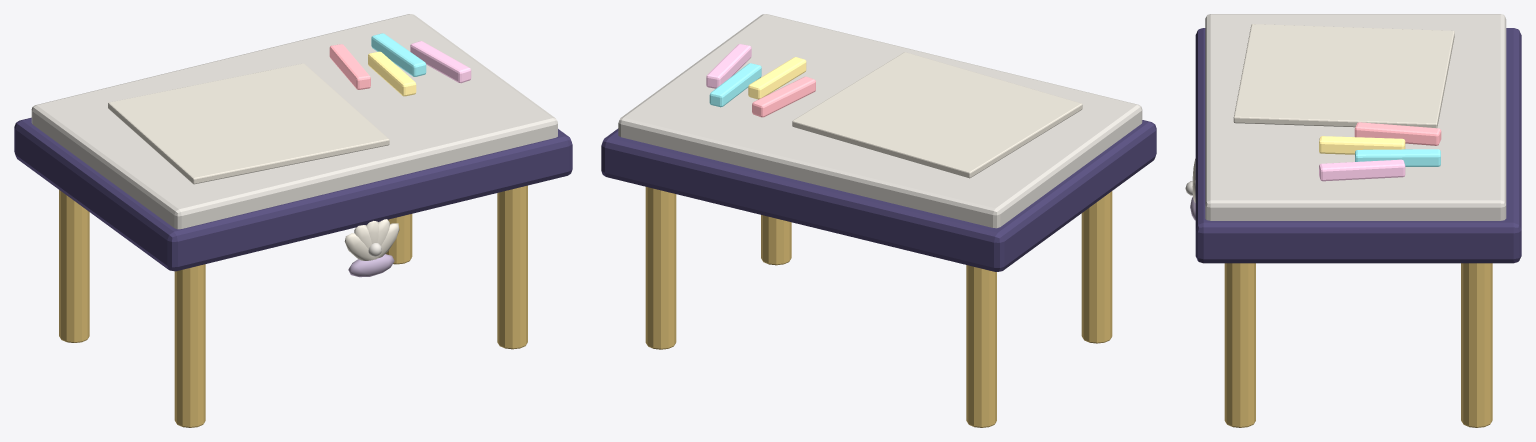
The model's file is pearl_craft_table.glb.
3 renders of one model, left to right at view 1: azimuth 30°, elevation 25°; view 2: azimuth 150°, elevation 25°; view 3: azimuth 270°, elevation 25°, orthographic. The views are drawn at different scales.
Visible parts, largest first — view 1: pearl_craft_table.001; view 2: pearl_craft_table.001; view 3: pearl_craft_table.001.
Part boxes in pixels (x1,y1,x2,y2): pearl_craft_table.001: [14, 14, 572, 427]; pearl_craft_table.001: [601, 14, 1156, 427]; pearl_craft_table.001: [1185, 14, 1521, 427].
Size of the model in its own units: 6.65 by 3.88 by 4.69.
